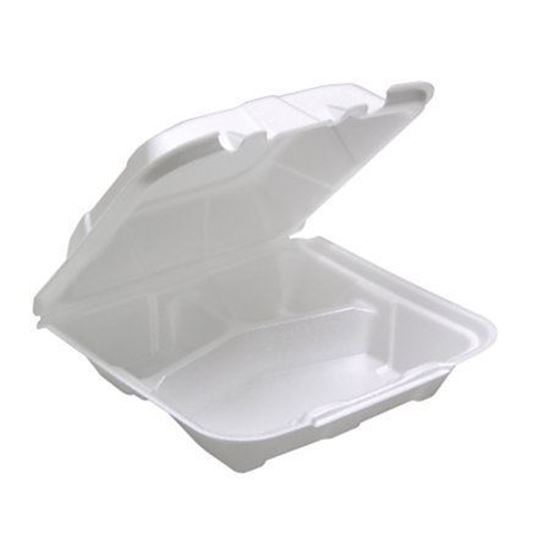Foam Box: (29, 76, 507, 476)
